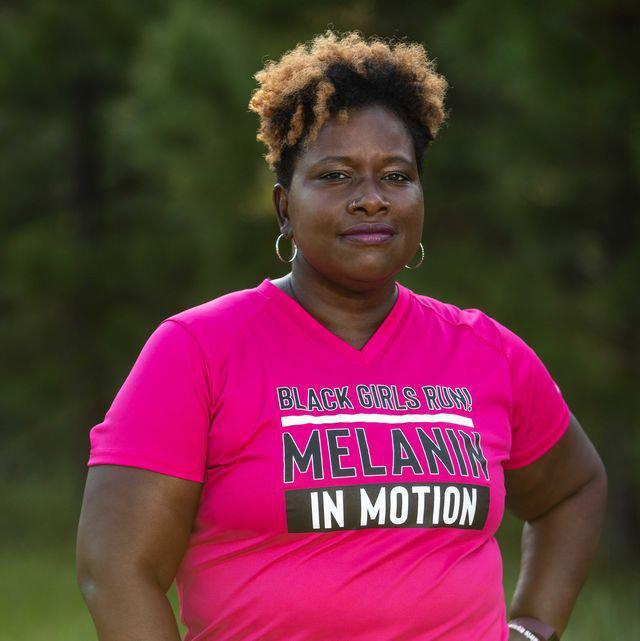Sober: (302, 123, 428, 267)
